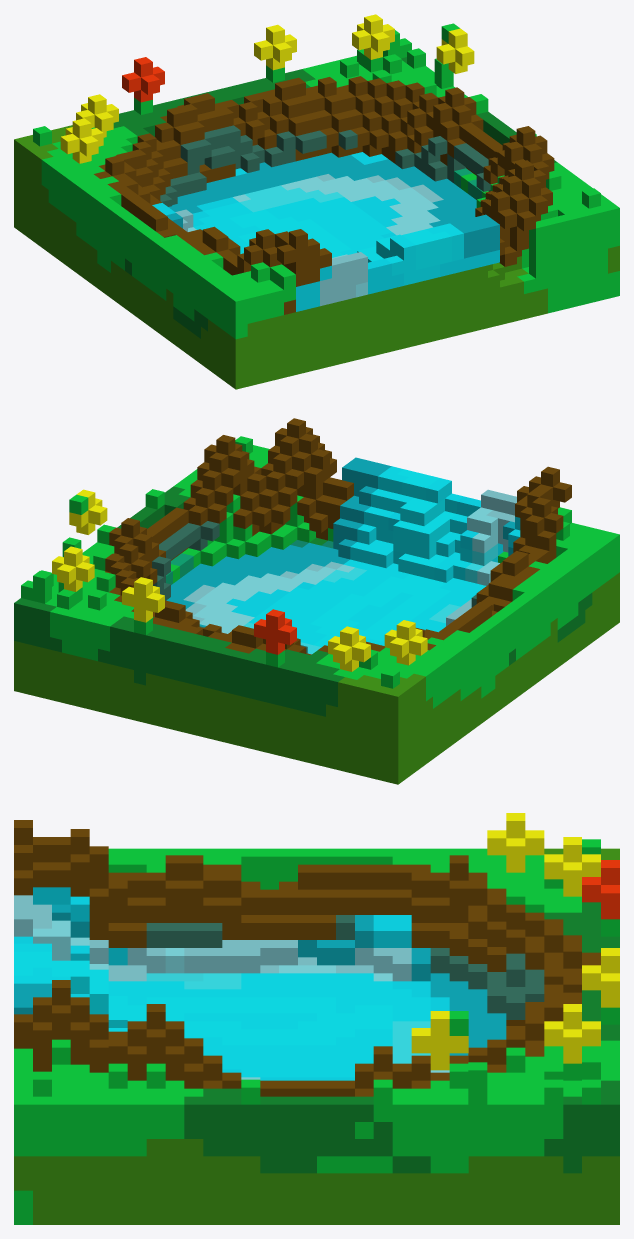
Rendered from meer.fbx.
The picture shows the model from 3 angles, top to bottom: view 1: azimuth 30°, elevation 25°; view 2: azimuth 150°, elevation 25°; view 3: azimuth 270°, elevation 25°; orthographic projection. The views are drawn at different scales.
Visible parts, largest first — view 1: Layer.057; view 2: Layer.057; view 3: Layer.057.
Part boxes in pixels (left/top/right/bottom): Layer.057: left=14, top=14, right=619, bottom=389; Layer.057: left=14, top=418, right=619, bottom=784; Layer.057: left=14, top=813, right=619, bottom=1224.
Size of the model in its own units: 3200 by 1200 by 3200.
Materials: 1 (1 with a texture image).
